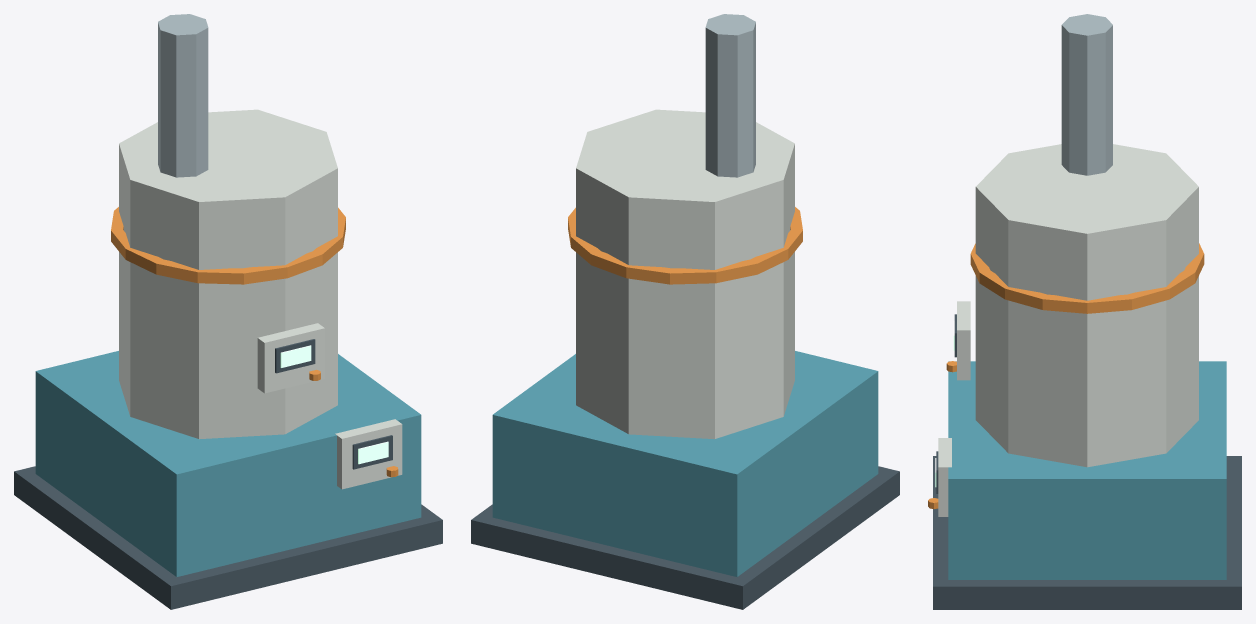
Rendered from steam-boiler-assembly.glb.
3 renders of one model, left to right at view 1: azimuth 30°, elevation 25°; view 2: azimuth 150°, elevation 25°; view 3: azimuth 270°, elevation 25°, orthographic.
Parts seen in each view (by area): view 1: cream, blue, dark, steel, orange, light; view 2: cream, blue, dark, steel, orange; view 3: cream, blue, dark, steel, orange.
Boxes of the visible parts, box(x1,y1,x2,y2) form: cream: box(119, 109, 402, 489); blue: box(35, 351, 421, 576); dark: box(14, 339, 442, 609); steel: box(158, 14, 208, 177); orange: box(111, 207, 398, 477); light: box(280, 345, 388, 464); cream: box(576, 109, 794, 439); blue: box(492, 351, 878, 576); dark: box(471, 466, 899, 609); steel: box(705, 14, 755, 177); orange: box(568, 207, 802, 284); cream: box(938, 144, 1198, 516); blue: box(948, 361, 1226, 579); dark: box(933, 314, 1241, 609); steel: box(1061, 14, 1112, 175); orange: box(928, 243, 1204, 508).
Size of the model in its own units: 1.8 by 3.2 by 1.83.
